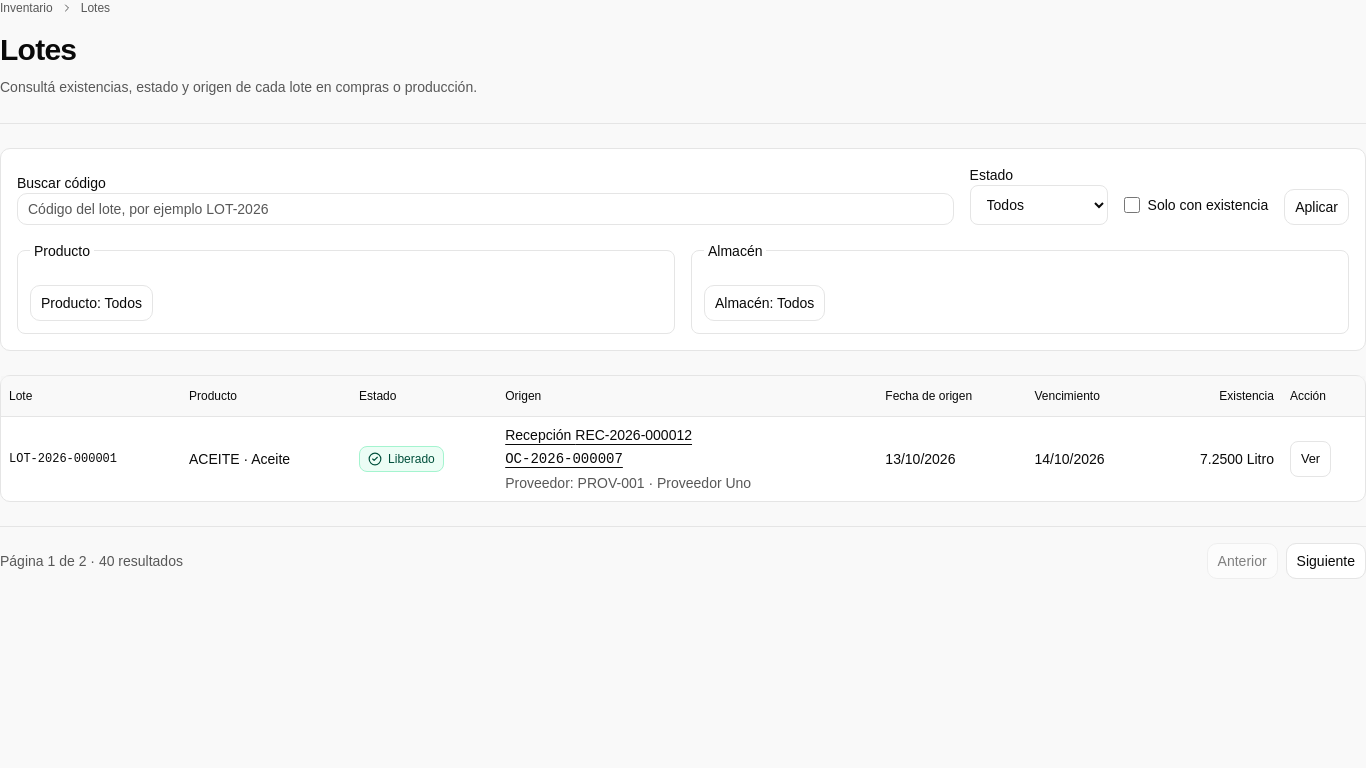
Test: LotsPage › retries a failed detail query
Check: the link "Recepción REC-2026-000012" is shown, box [505,427,692,443]
Click the button "Ver".
click(1310, 459)  # box [1290,441,1331,477]
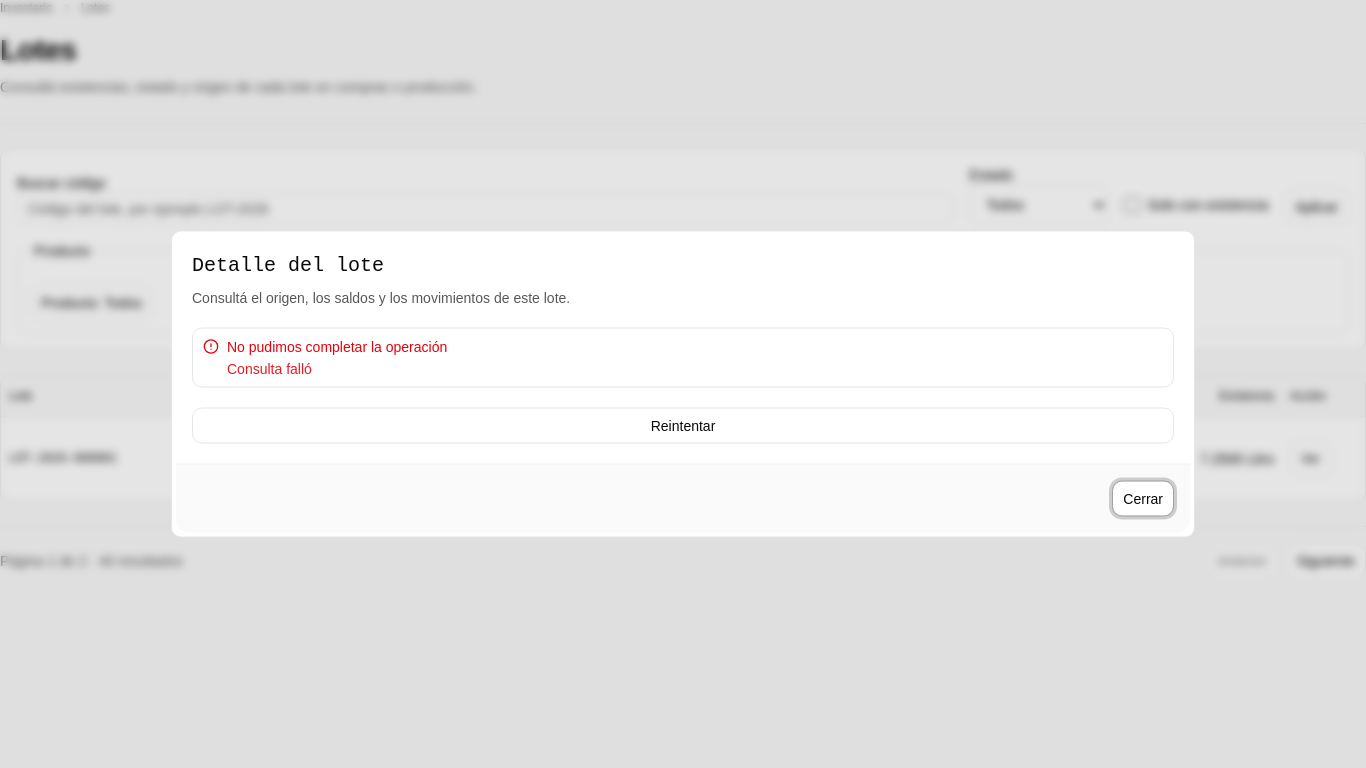
Check: the text "Consulta falló" is shown, box [227,360,312,376]
Click the button "Reintentar".
click(683, 426)  # box [192,408,1174,444]
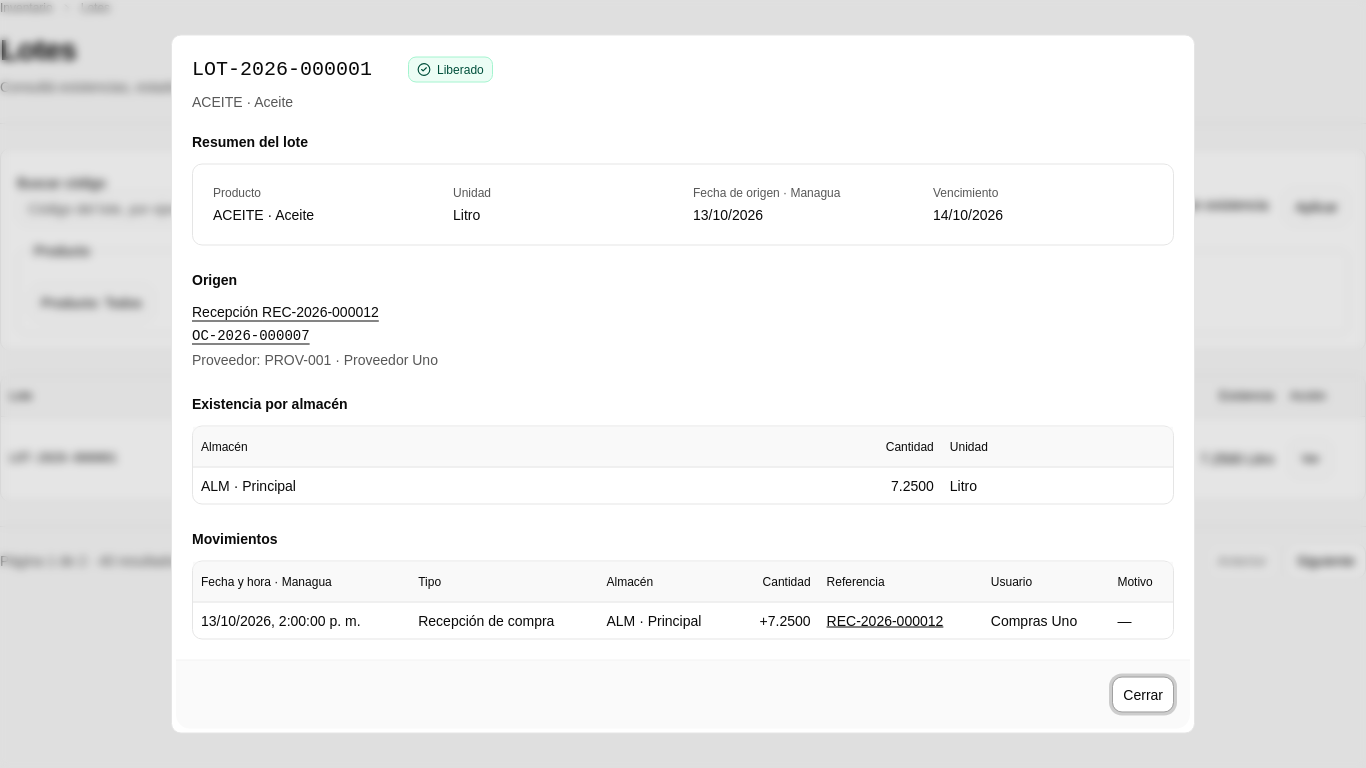
Check: the link "Recepción REC-2026-000012" is shown, box [192,304,379,320]
